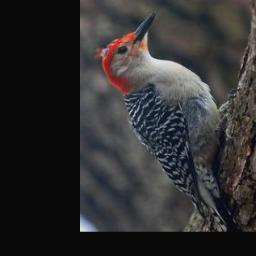Woodpecker: (94, 13, 241, 231)
